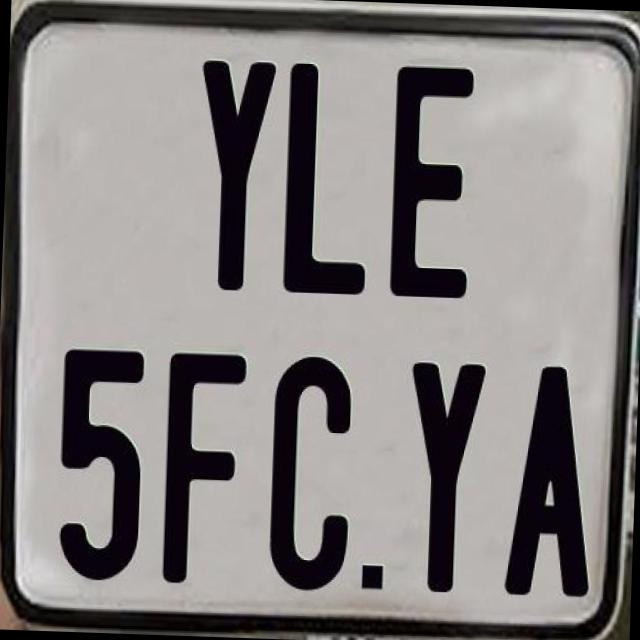5: (56, 348, 146, 591)
A: (501, 360, 597, 597)
C: (265, 354, 357, 596)
E: (386, 60, 479, 303)
F: (158, 348, 250, 588)
L: (278, 59, 374, 301)
Y: (401, 358, 487, 600), (192, 55, 274, 286)
